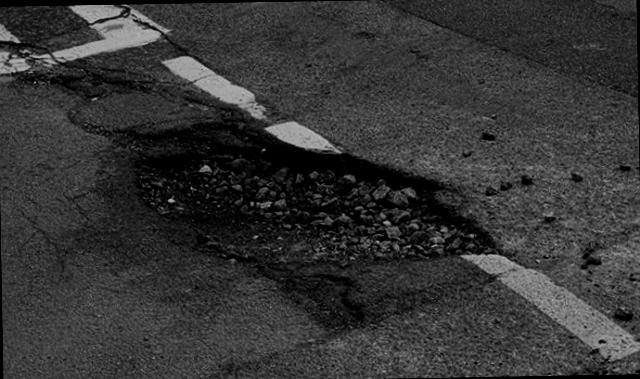Pothole: (106, 108, 519, 330)
